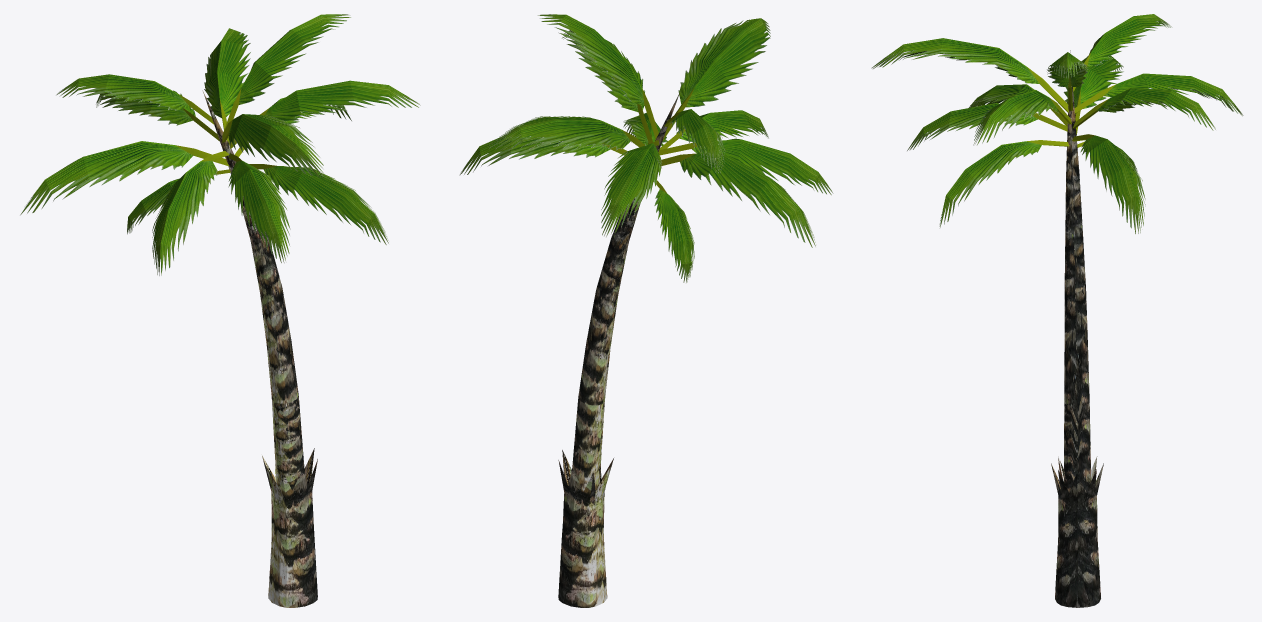
File: palm.obj
3 renders of one model, left to right at view 1: azimuth 30°, elevation 25°; view 2: azimuth 150°, elevation 25°; view 3: azimuth 270°, elevation 25°, orthographic. The views are drawn at different scales.
Visible parts, largest first — view 1: Cube.002; view 2: Cube.002; view 3: Cube.002.
Boxes of the visible parts, x1,y1,x2,y2 form: Cube.002: (20, 14, 420, 607); Cube.002: (459, 14, 833, 607); Cube.002: (871, 14, 1243, 607).
Bounding box in the file's own units: 4.04 × 6.31 × 3.97.
Materials: 2 (2 with a texture image).
